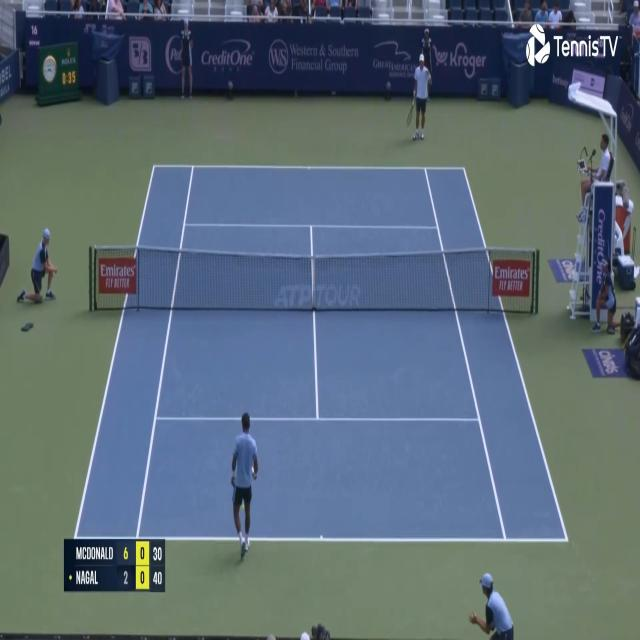tennis-player: (228, 410, 259, 558), (405, 51, 432, 142)
